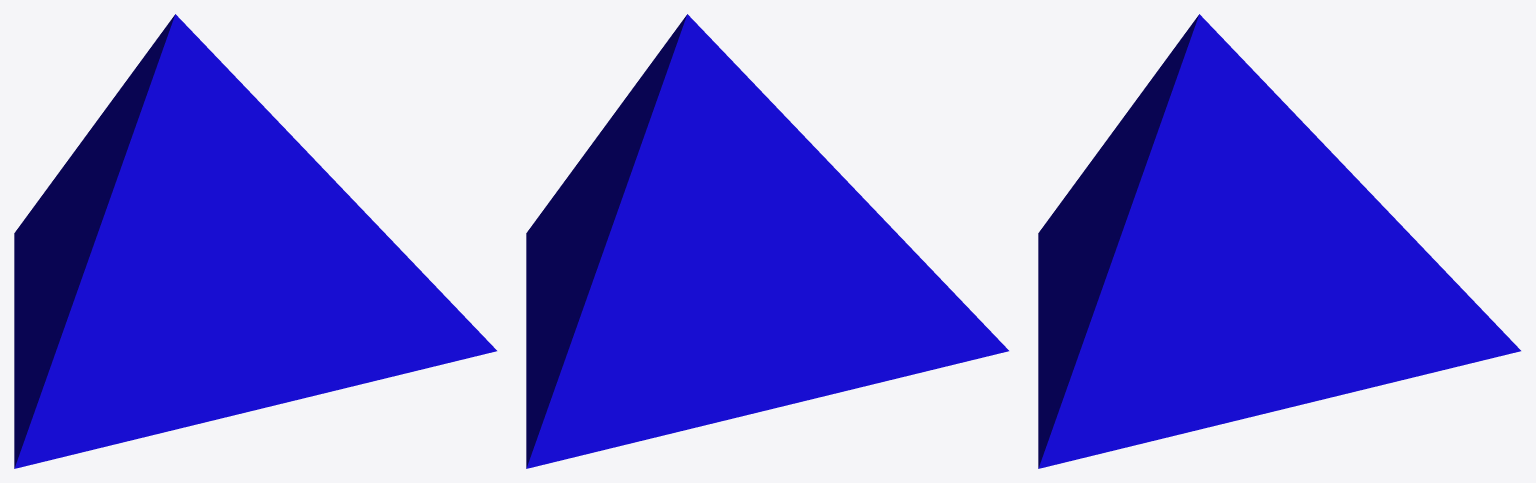
File: face-tetraedro.glb
3 views of the same model, side by side, from view 1: azimuth 30°, elevation 25°; view 2: azimuth 150°, elevation 25°; view 3: azimuth 270°, elevation 25° (orthographic).
Visible parts, largest first — view 1: Cone.001; view 2: Cone.001; view 3: Cone.001.
Part boxes in pixels (x1,y1,x2,y2): Cone.001: (14, 14, 496, 468); Cone.001: (526, 14, 1008, 468); Cone.001: (1038, 14, 1520, 468).
Bounding box in the file's own units: 1.5 × 1 × 1.3.
